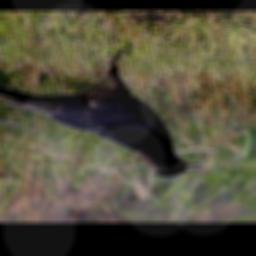Crow: (0, 44, 206, 179)
